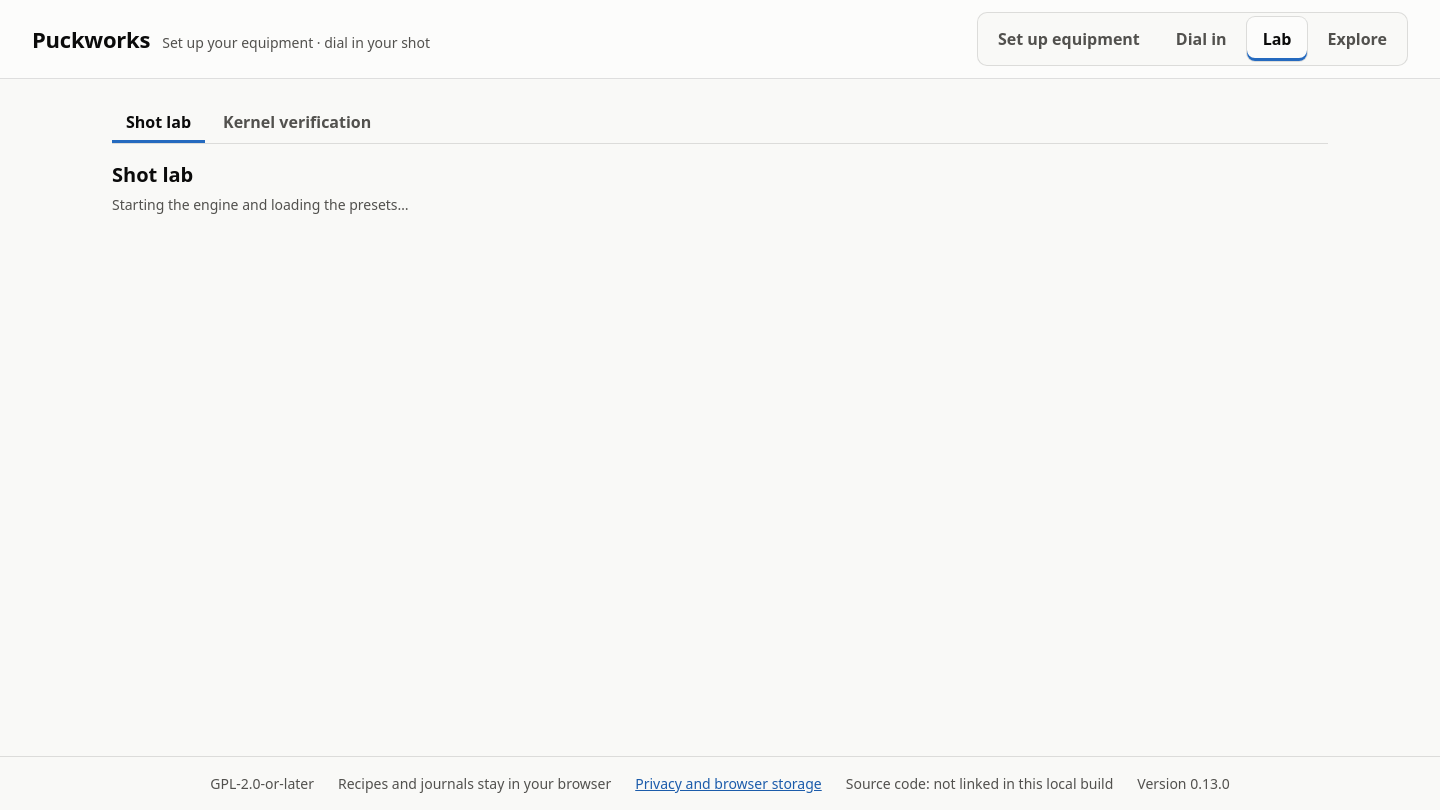
it: App › opens the Lab on the shot lab, with the kernel verification one tab away
The image size is (1440, 810).
Expected: the heading "Shot lab" is shown, [112,161,193,188]
Expected: the text "Starting the engine and loading the presets…" is shown, [112,195,409,214]
Click the tab "Kernel verification" at (297, 123), box [209,103,385,143]
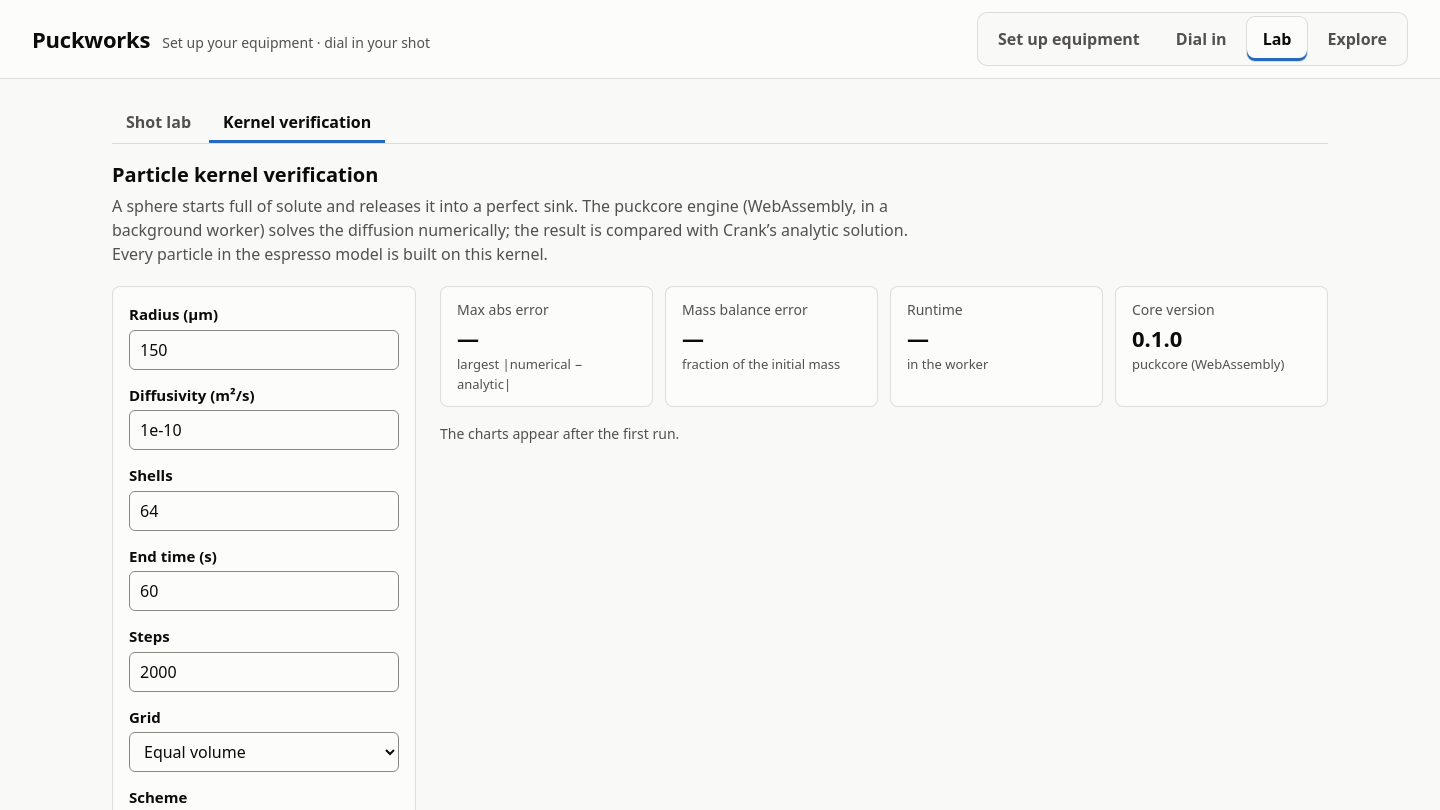
Result: the heading "Particle kernel verification" is shown at [112,161,378,188]
